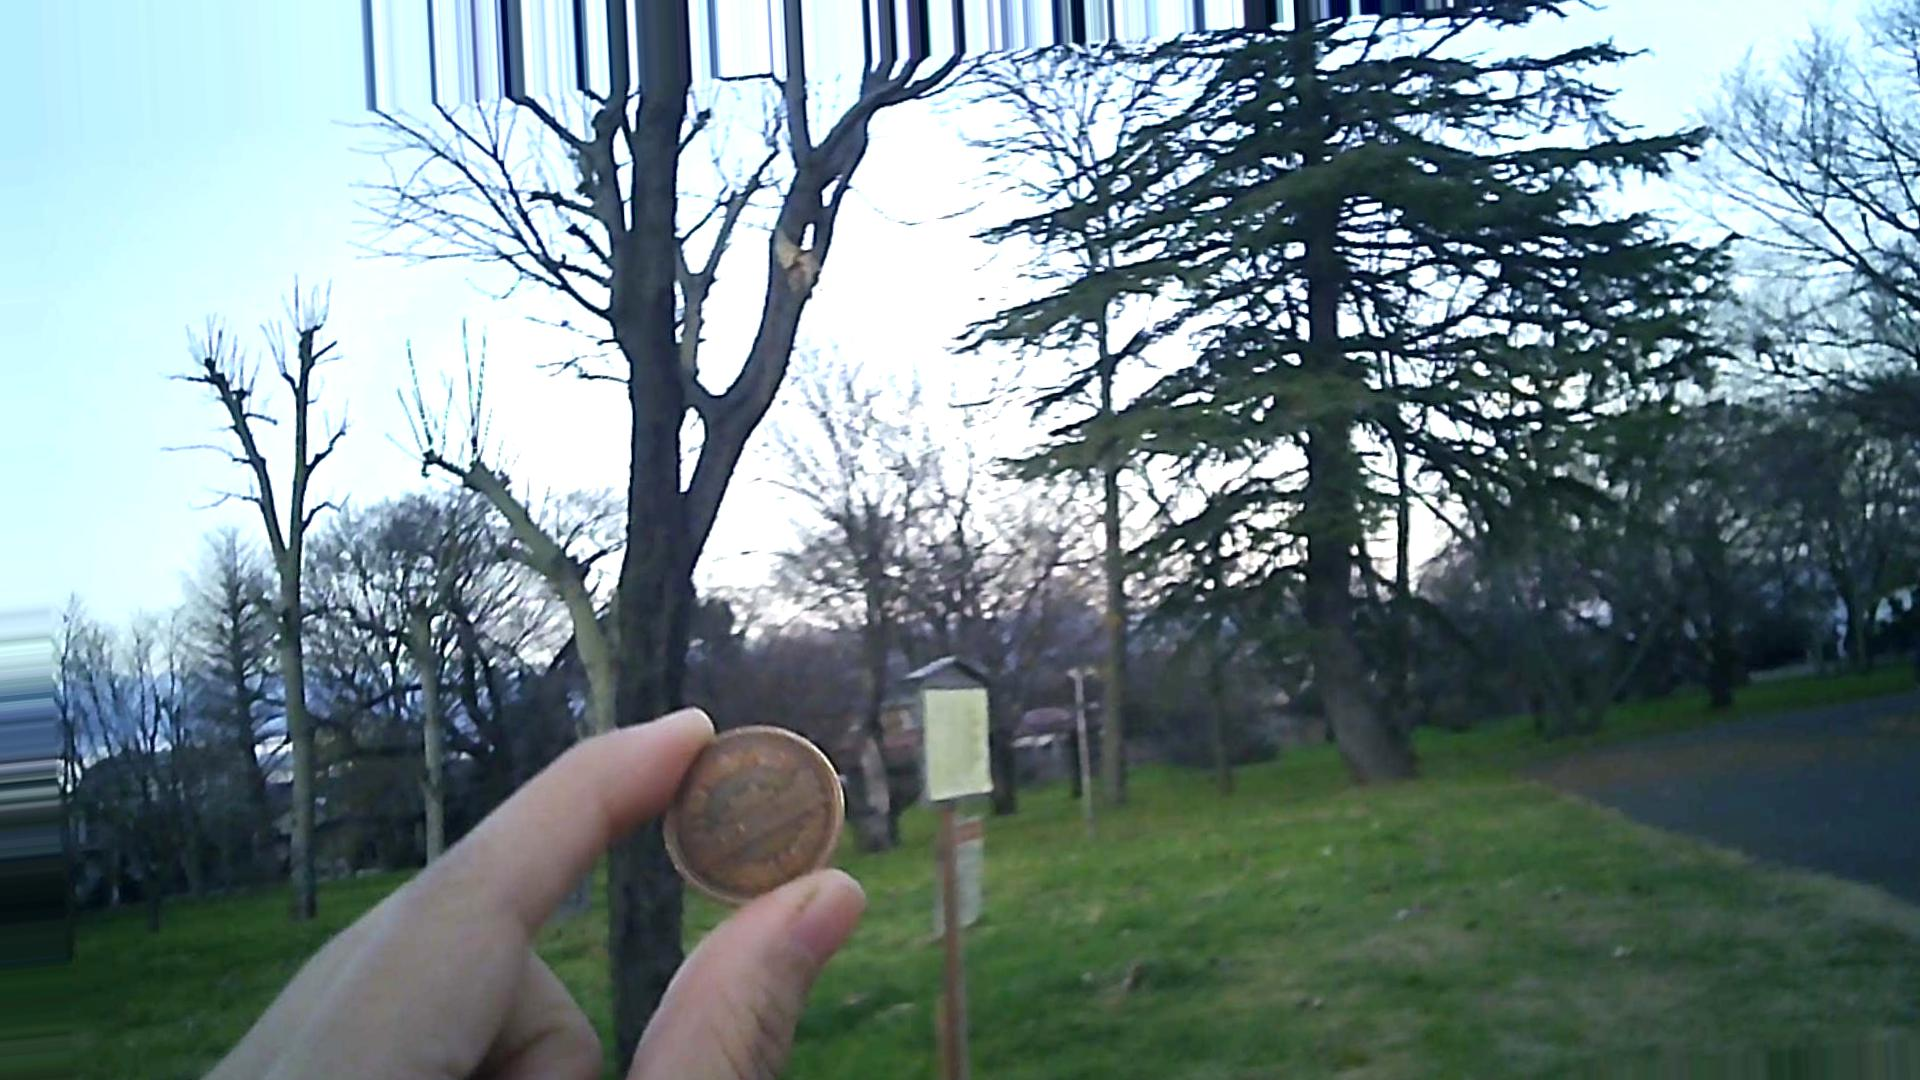10 Yen: (659, 703, 847, 898)
